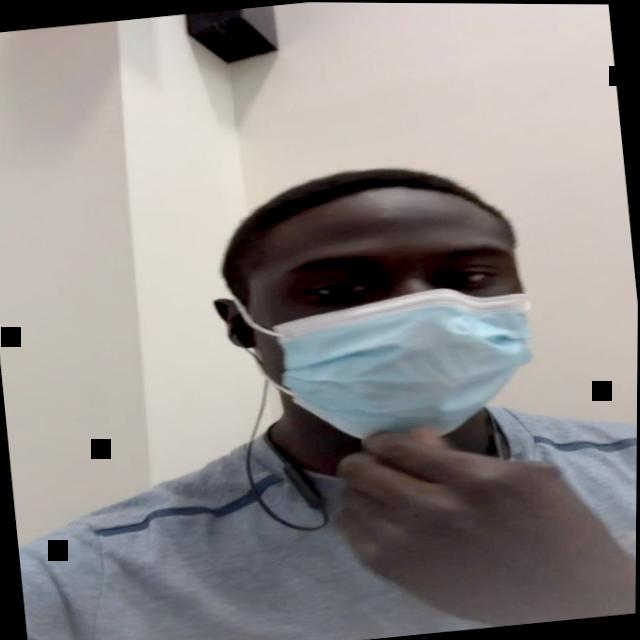Mask: (229, 200, 544, 468)
